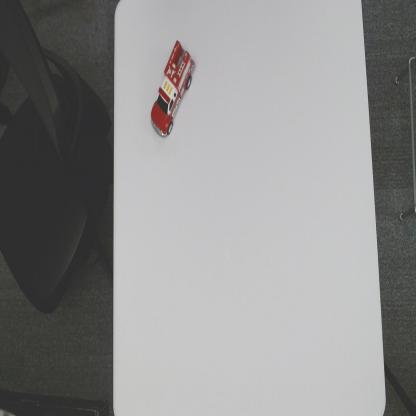Firetruck: (150, 39, 196, 140)
